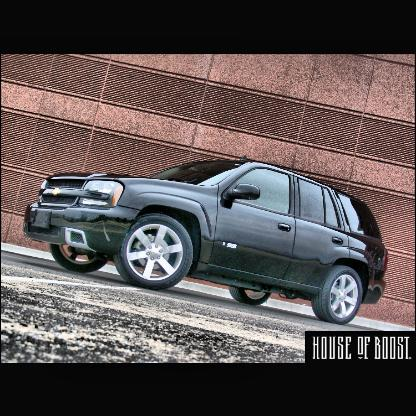Chevrolet TrailBlazer SS 2009: (23, 155, 390, 326)
